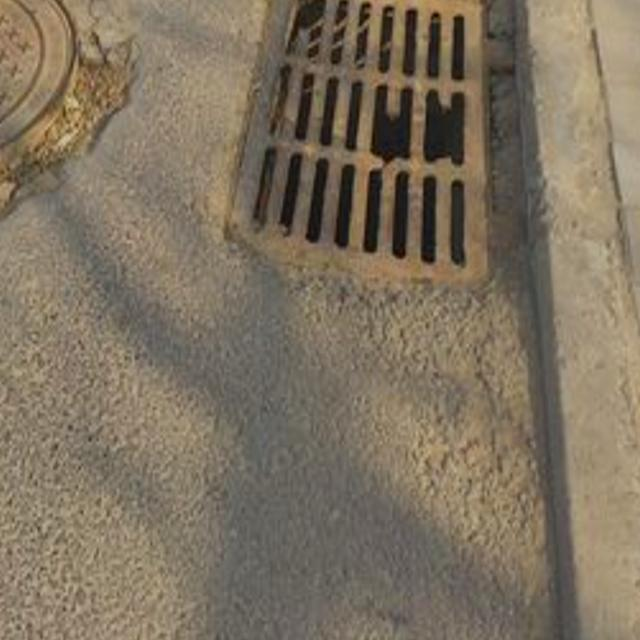circle: (0, 0, 149, 280)
